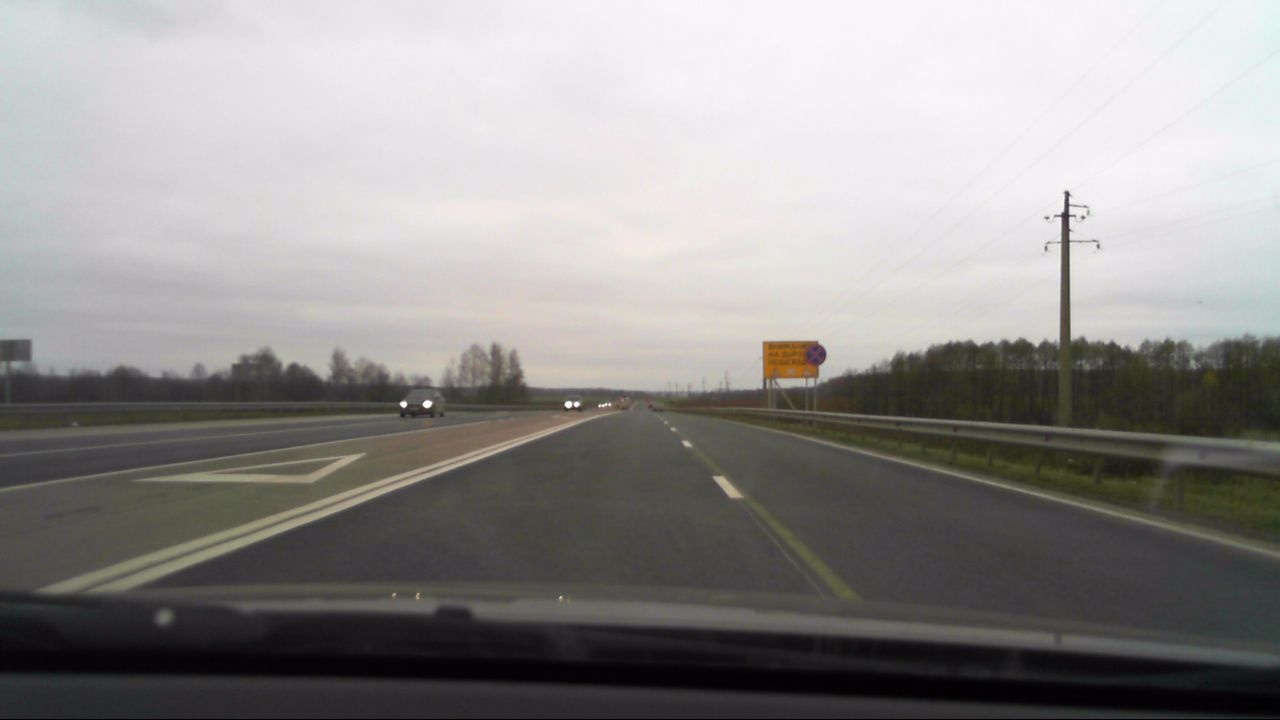No Parking: (805, 342, 829, 365)
